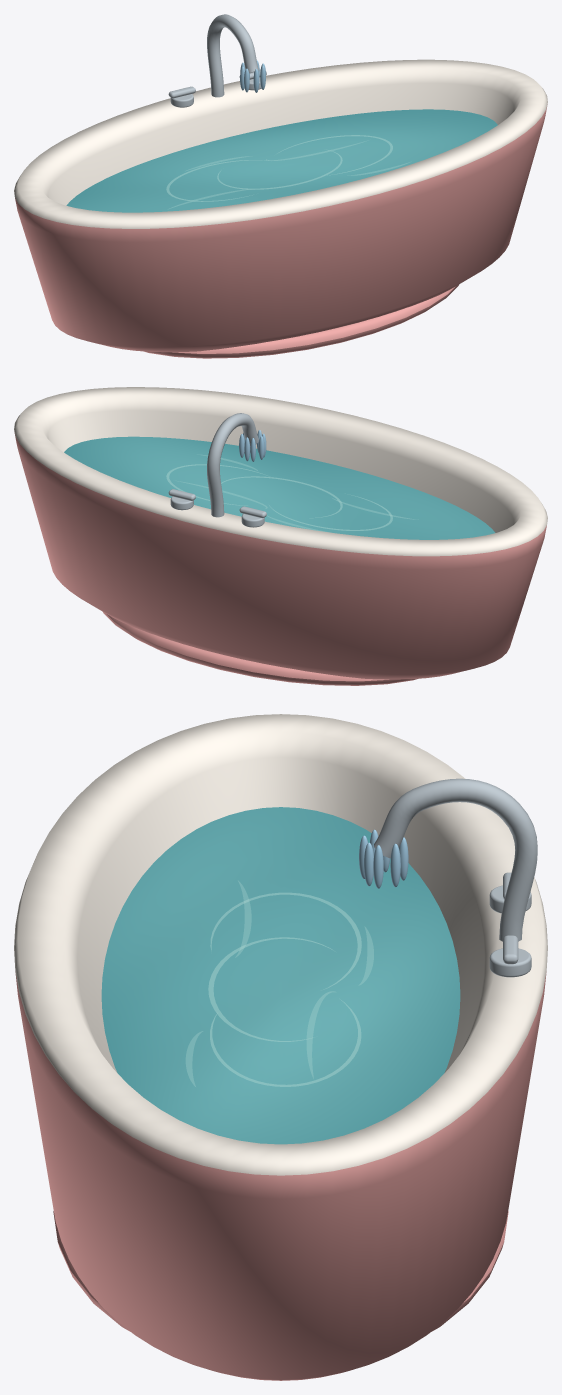
Rendered from bathroomBathOvalRose.glb.
3 renders of one model, top to bottom at view 1: azimuth 30°, elevation 25°; view 2: azimuth 150°, elevation 25°; view 3: azimuth 270°, elevation 25°, orthographic. The views are drawn at different scales.
Visible parts, largest first — view 1: Oval bath shell, Recessed bath water, Recessed bath plinth, Bath gooseneck faucet; view 2: Oval bath shell, Recessed bath water, Recessed bath plinth, Bath gooseneck faucet; view 3: Oval bath shell, Recessed bath water, Bath gooseneck faucet, Recessed bath plinth, Bath tap base.001.
Part boxes in pixels (x1,y1,x2,y2): Oval bath shell: (14, 59, 547, 352); Recessed bath water: (66, 109, 497, 212); Recessed bath plinth: (143, 284, 458, 358); Bath gooseneck faucet: (207, 14, 258, 97); Oval bath shell: (14, 387, 547, 679); Recessed bath water: (64, 436, 495, 539); Recessed bath plinth: (103, 612, 418, 685); Bath gooseneck faucet: (207, 413, 258, 517); Oval bath shell: (14, 714, 547, 1380); Recessed bath water: (101, 807, 460, 1144); Bath gooseneck faucet: (374, 778, 537, 941); Recessed bath plinth: (53, 1211, 508, 1331); Bath tap base.001: (489, 948, 531, 977).
Bounding box in the file's own units: 2.46 × 1.12 × 1.22.
